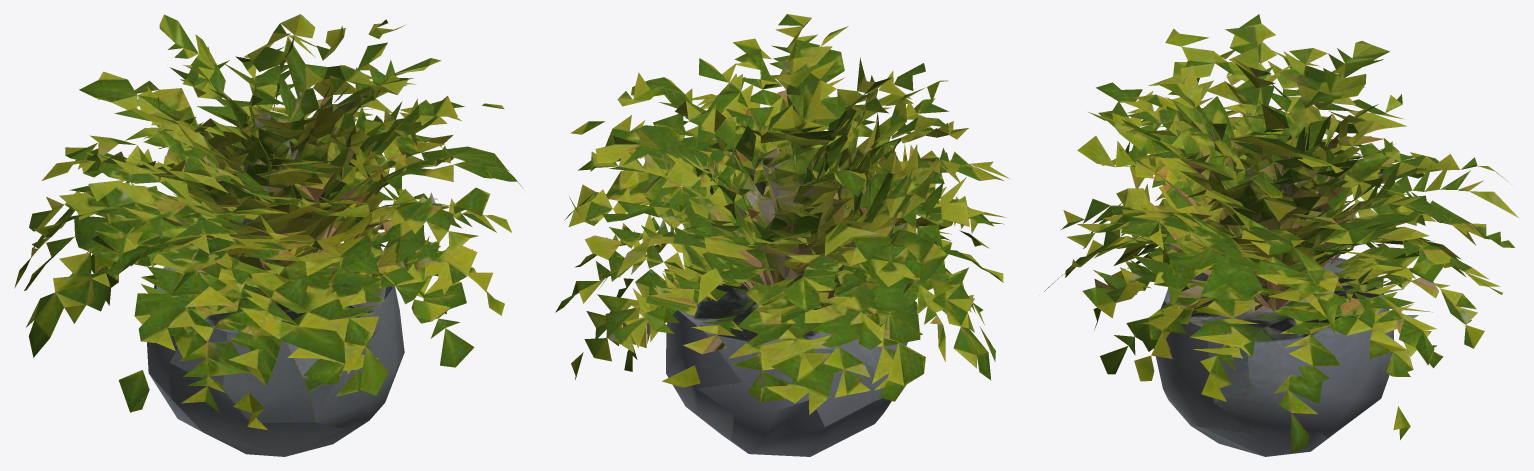
File: fern.glb
3 renders of one model, left to right at view 1: azimuth 30°, elevation 25°; view 2: azimuth 150°, elevation 25°; view 3: azimuth 270°, elevation 25°, orthographic. The views are drawn at different scales.
Parts seen in each view (by area): view 1: plant; view 2: plant; view 3: plant.
Part boxes in pixels (x1,y1,x2,y2): plant: [14, 14, 522, 456]; plant: [555, 14, 1009, 456]; plant: [1044, 14, 1518, 456].
Size of the model in its own units: 0.797 by 0.65 by 0.7709.
Materials: 1 (1 with a texture image).
